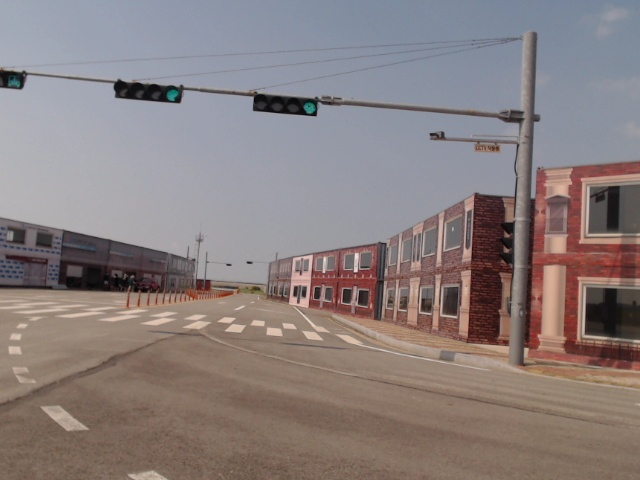straight_green_4: (252, 94, 317, 117), (115, 81, 180, 104)
